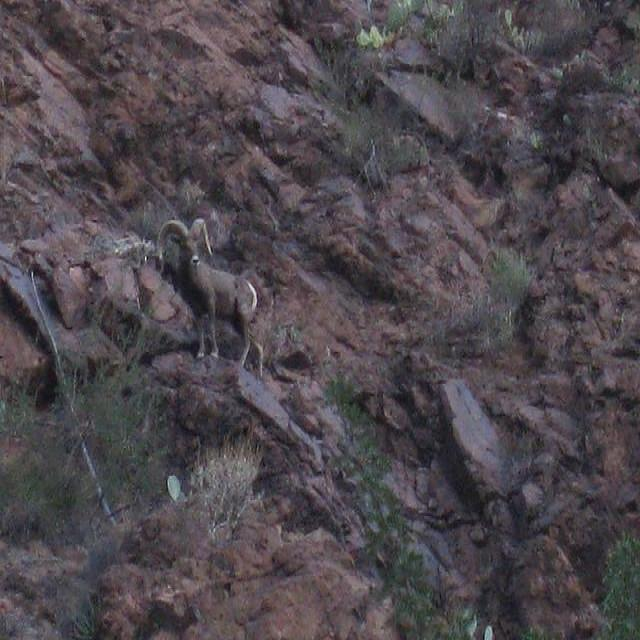Sheep: (158, 218, 265, 378)
